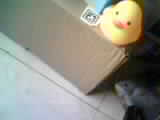duck: (91, 3, 141, 43)
